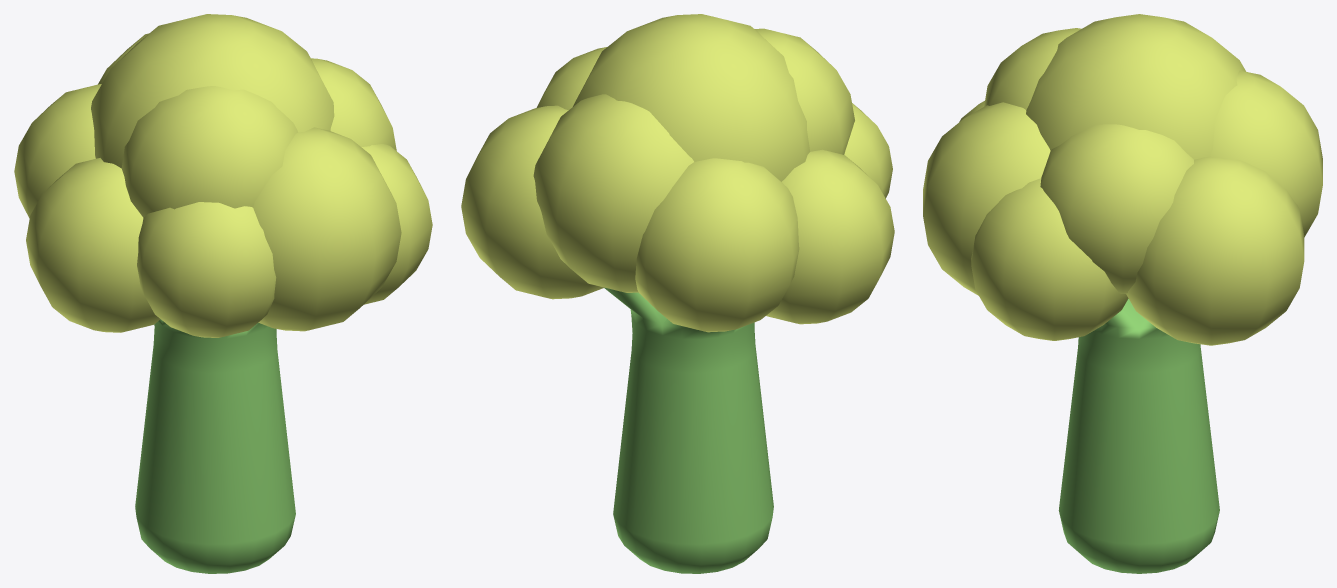
File: Broccoli.fbx
The picture shows the model from 3 angles, left to right: view 1: azimuth 30°, elevation 25°; view 2: azimuth 150°, elevation 25°; view 3: azimuth 270°, elevation 25°; orthographic projection.
Parts seen in each view (by area): view 1: broccoliLeaf, broccoliBase; view 2: broccoliLeaf, broccoliBase; view 3: broccoliLeaf, broccoliBase.
Boxes of the visible parts, x1=… form: broccoliLeaf: x1=14, y1=14, x2=432, y2=337; broccoliBase: x1=135, y1=319, x2=295, y2=573; broccoliLeaf: x1=461, y1=14, x2=894, y2=332; broccoliBase: x1=604, y1=287, x2=773, y2=573; broccoliLeaf: x1=923, y1=14, x2=1322, y2=345; broccoliBase: x1=1058, y1=299, x2=1219, y2=573.
Size of the model in its own units: 7.28 by 10.04 by 6.86.
